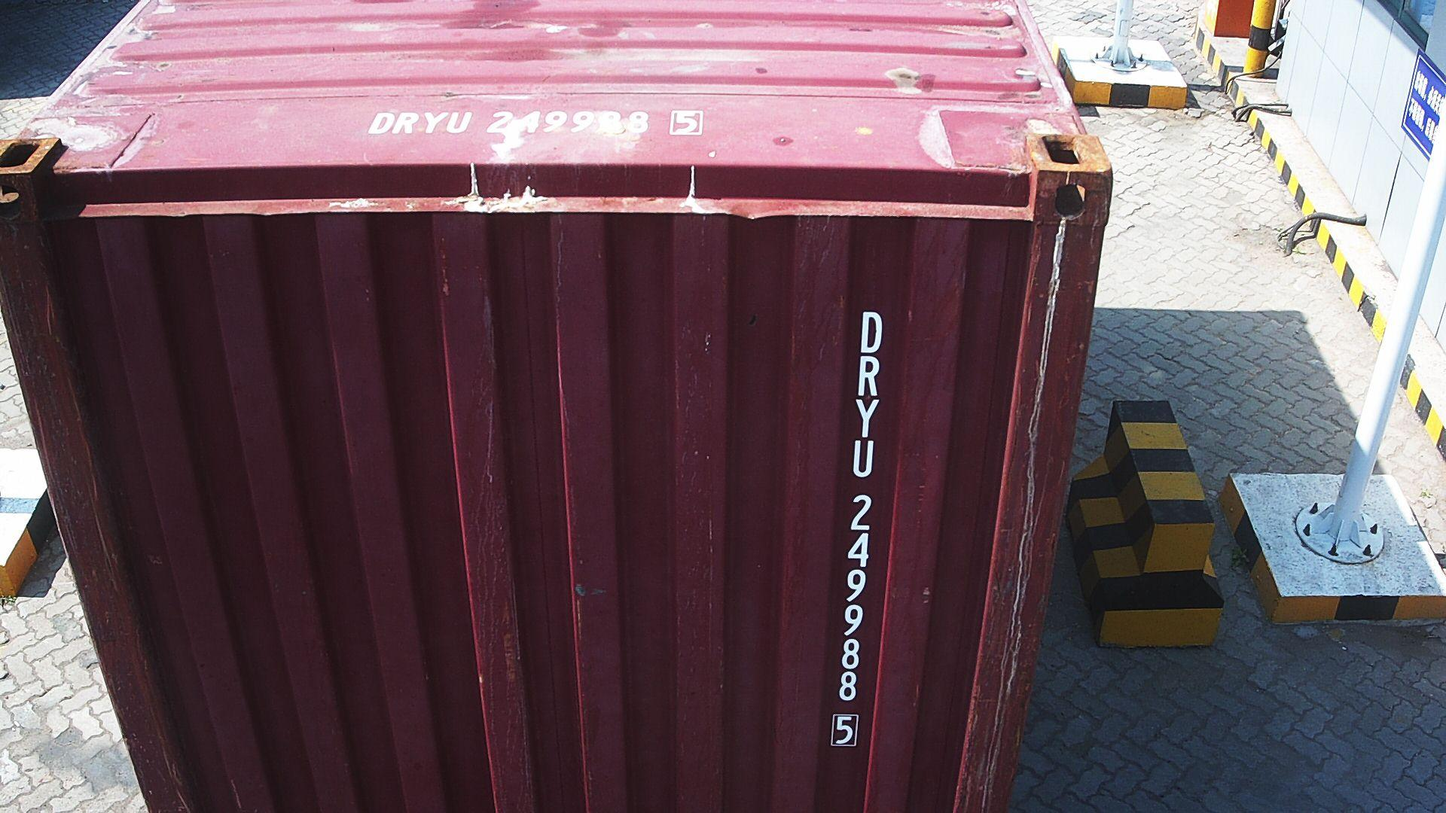container-numbers: (826, 306, 889, 752), (357, 105, 711, 141)
